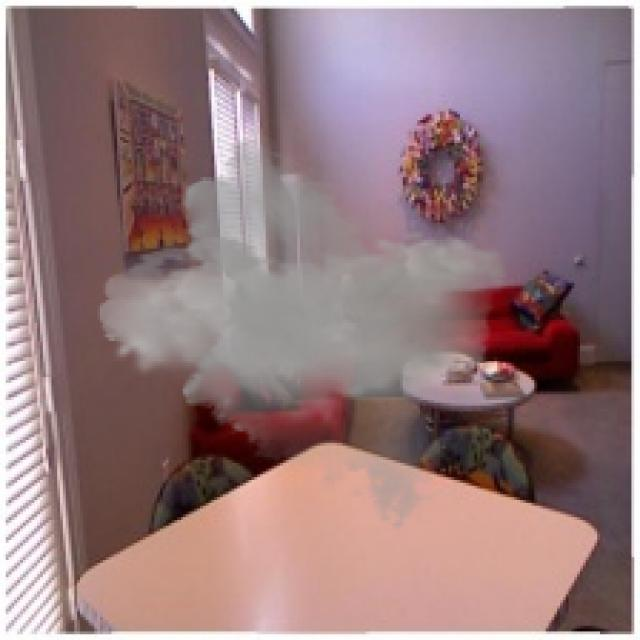smoke: (97, 126, 509, 531)
